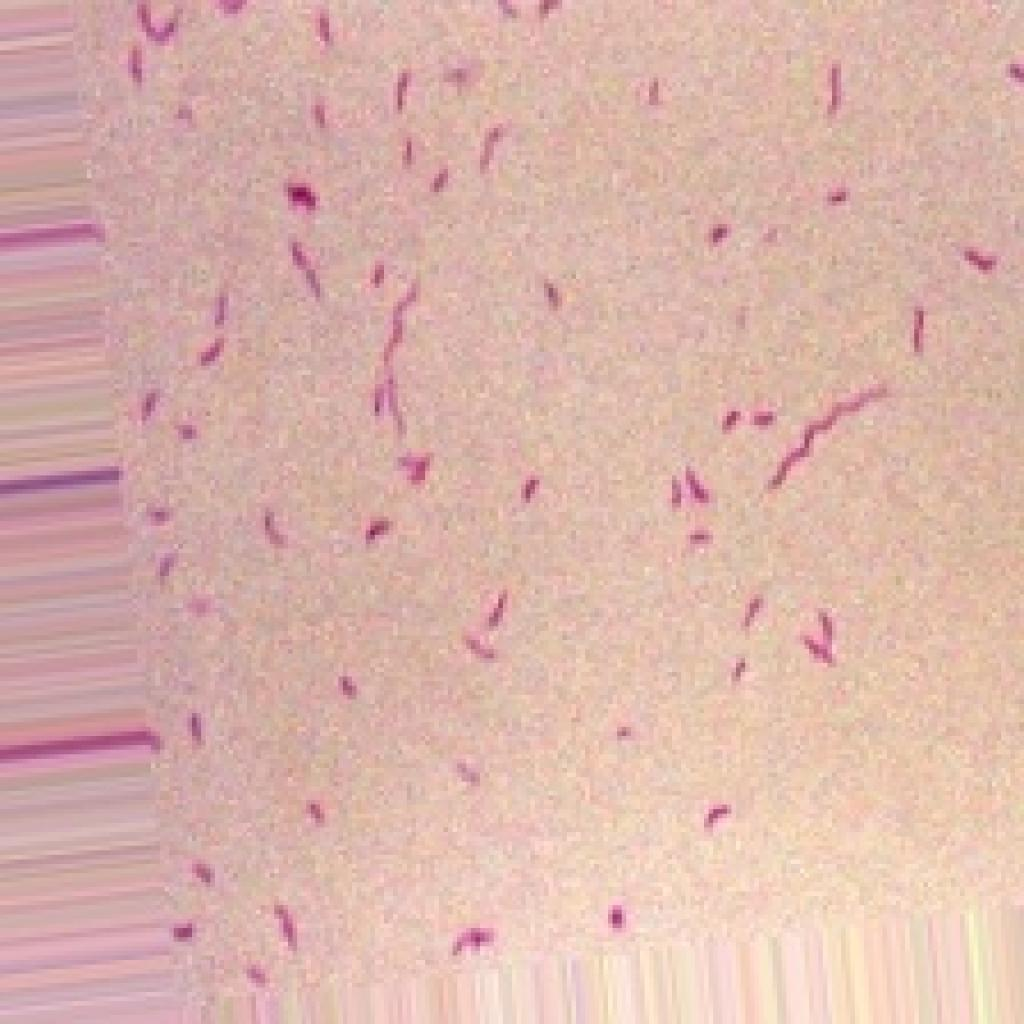Sprialbacteria: (68, 0, 1019, 1019)
